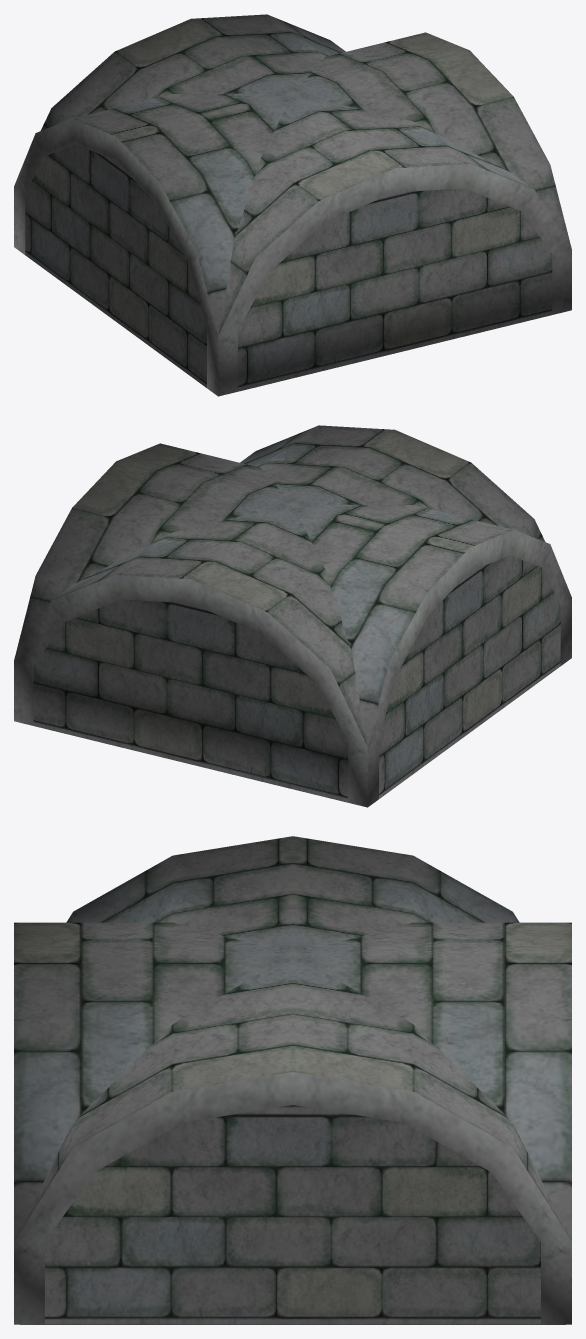
File: vault_ceiling_large_06.glb
The picture shows the model from 3 angles, top to bottom: view 1: azimuth 30°, elevation 25°; view 2: azimuth 150°, elevation 25°; view 3: azimuth 270°, elevation 25°; orthographic projection. The views are drawn at different scales.
Parts seen in each view (by area): view 1: vault_ceiling_large_06; view 2: vault_ceiling_large_06; view 3: vault_ceiling_large_06.
Boxes of the visible parts, x1,y1,x2,y2 form: vault_ceiling_large_06: (14,14,571,396); vault_ceiling_large_06: (14,425,571,807); vault_ceiling_large_06: (14,836,571,1324).
Size of the model in its own units: 4 by 2 by 4.
1 material, 1 textured.
